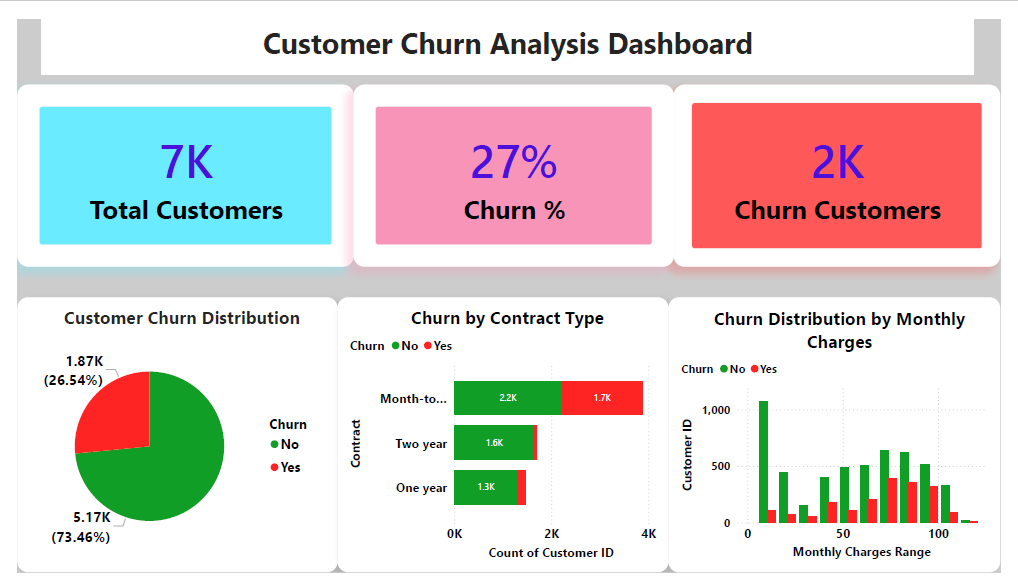

Layout of this report page (visuals, bound fields, positions):
{"tool":"powerbi","page":{"name":"Page 1","canvas":[1280,720],"ordinal":0},"visuals":[{"type":"cardVisual","fields":{"Data":["CHURN.Total Customers"]},"box":[0,85,438.3,236.7],"z":0},{"type":"cardVisual","fields":{"Data":["CHURN.Churn Customers"]},"box":[855,85,425,236.7],"z":1000},{"type":"cardVisual","fields":{"Data":["CHURN.Churn %"]},"box":[438.3,85,416.7,236.7],"z":2000},{"type":"textbox","box":[31.9,0,1214.5,72.2],"z":3000},{"type":"pieChart","title":"Customer Churn Distribution","fields":{"Category":["CHURN.CHURN"],"Y":["CountNonNull(CHURN.CUSTOMERID)"]},"box":[0,361.7,416.7,358.3],"z":4000},{"type":"barChart","title":"Churn by Contract Type","fields":{"Series":["CHURN.CHURN"],"Category":["CHURN.CONTRACT"],"Y":["CountNonNull(CHURN.CUSTOMERID)"]},"box":[416.7,361.7,431.7,358.3],"z":5000},{"type":"clusteredColumnChart","title":"Churn Distribution by Monthly Charges","fields":{"Series":["CHURN.CHURN"],"Category":["CHURN.MONTHLYCHARGES (bins)"],"Y":["CountNonNull(CHURN.CUSTOMERID)"]},"box":[848.3,361.7,431.7,358.3],"z":6000}]}

Visuals, with their boxes in screenshot pixels (x1, y1, x2, y2), scaled from the page's 1280x720 canvas onto the 1018x588 screenshot:
cardVisual - CHURN.Total Customers: {"left": 0, "top": 69, "right": 349, "bottom": 263}
cardVisual - CHURN.Churn Customers: {"left": 680, "top": 69, "right": 1017, "bottom": 263}
cardVisual - CHURN.Churn %: {"left": 349, "top": 69, "right": 680, "bottom": 263}
textbox: {"left": 25, "top": 0, "right": 991, "bottom": 59}
"Customer Churn Distribution" pieChart: {"left": 0, "top": 295, "right": 331, "bottom": 587}
"Churn by Contract Type" barChart: {"left": 331, "top": 295, "right": 675, "bottom": 587}
"Churn Distribution by Monthly Charges" clusteredColumnChart: {"left": 675, "top": 295, "right": 1017, "bottom": 587}
